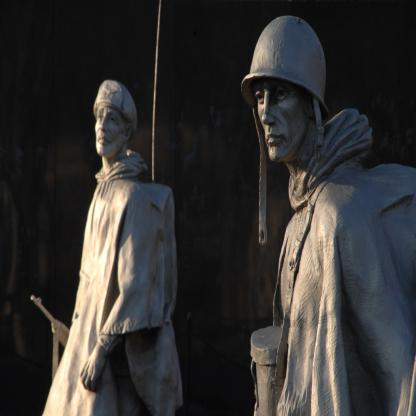Helmet: (245, 15, 334, 161), (94, 80, 137, 132)
